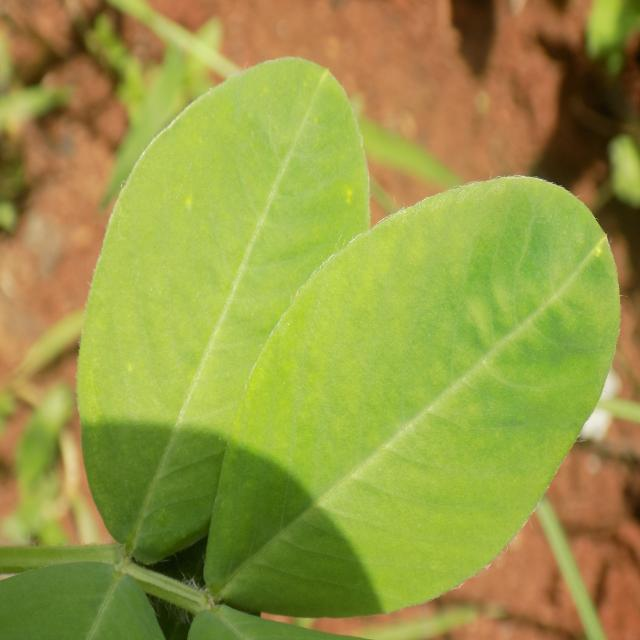Ground nut_healthy: (201, 174, 622, 612), (80, 48, 373, 571)
